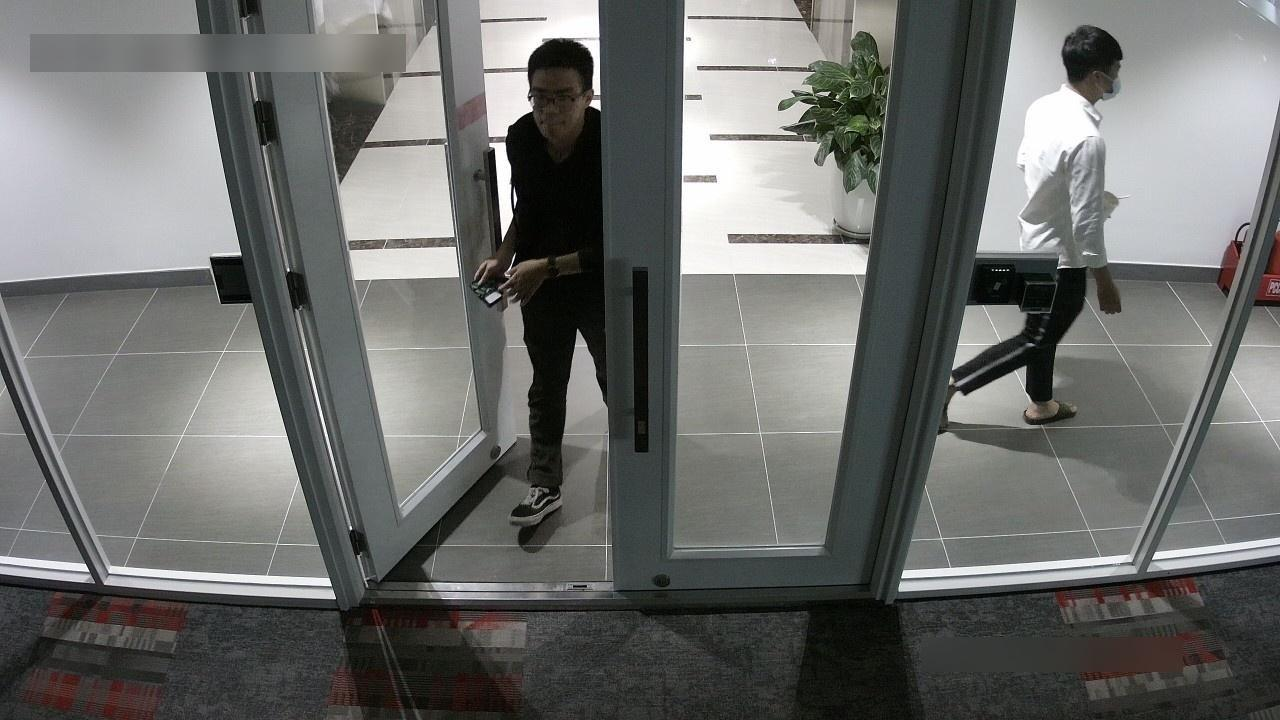mask: (1091, 54, 1130, 105)
no_apron: (494, 256, 574, 312), (1086, 265, 1146, 325), (472, 244, 528, 304)
no_gloves: (501, 29, 613, 94), (1055, 12, 1132, 94)
no_hairnet: (524, 65, 588, 148)
